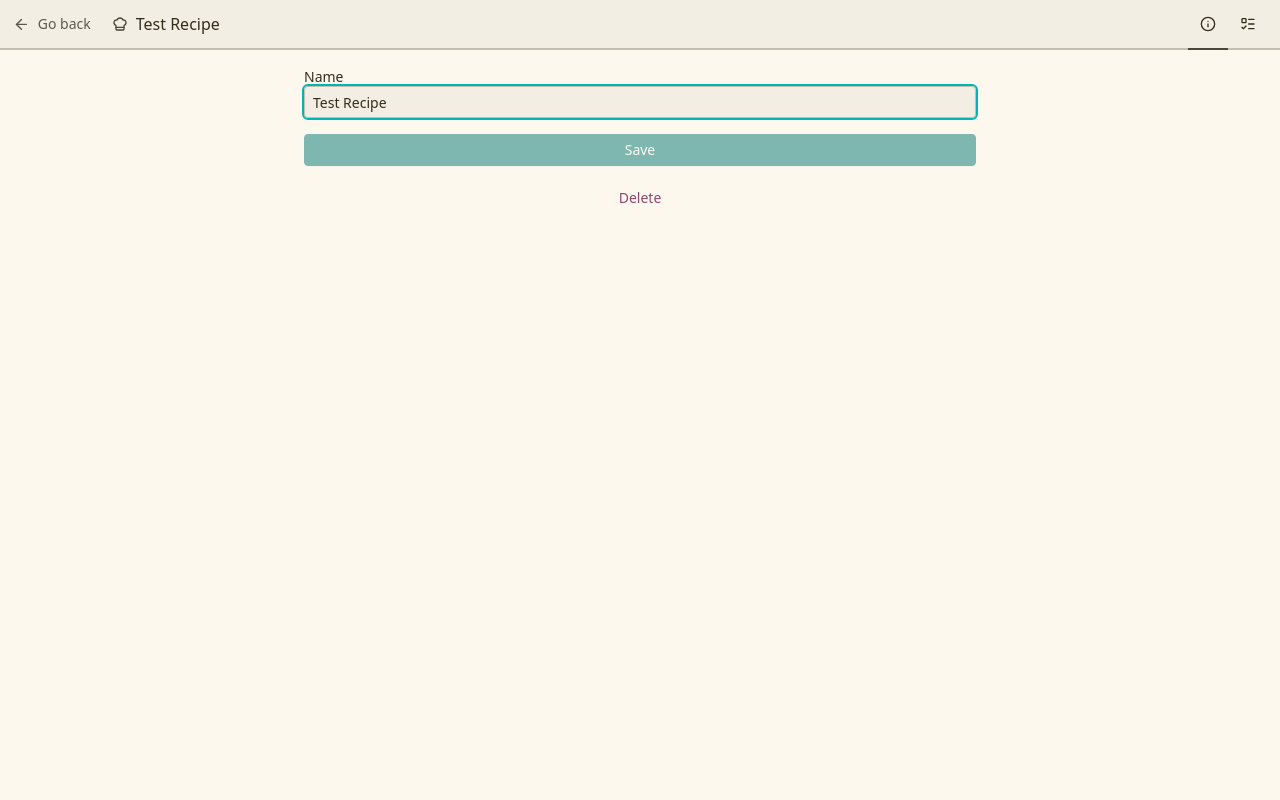
Test case: Recipe Detail - Info Tab › user does not see discard dialog after discarding and returning to Info tab
This screenshot has width=1280, height=800.
Note: When user edits name
Replace the text in the field labelled "Name" with "Changed Name" at [640, 102], box [304,86,976,118]
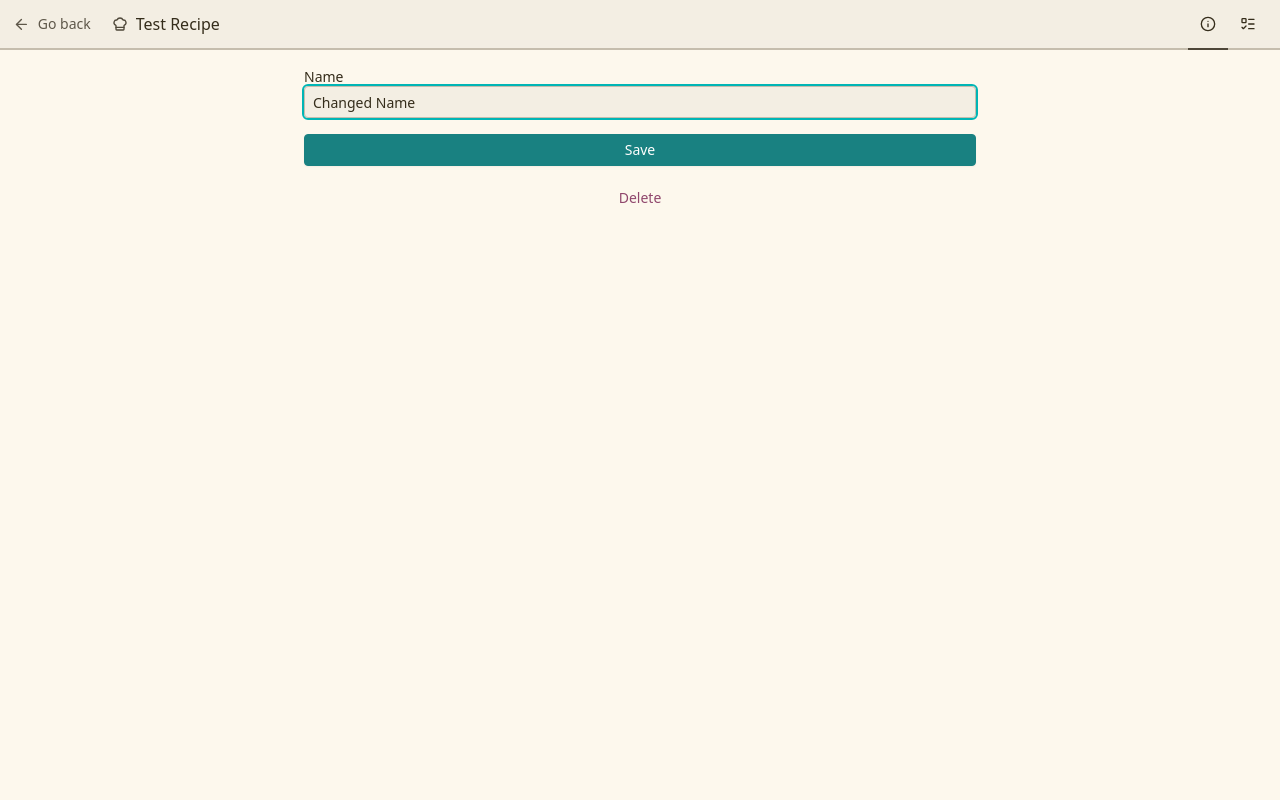
Click the link named "Recipe items tab" at [1248, 25], box [1228,0,1268,50]
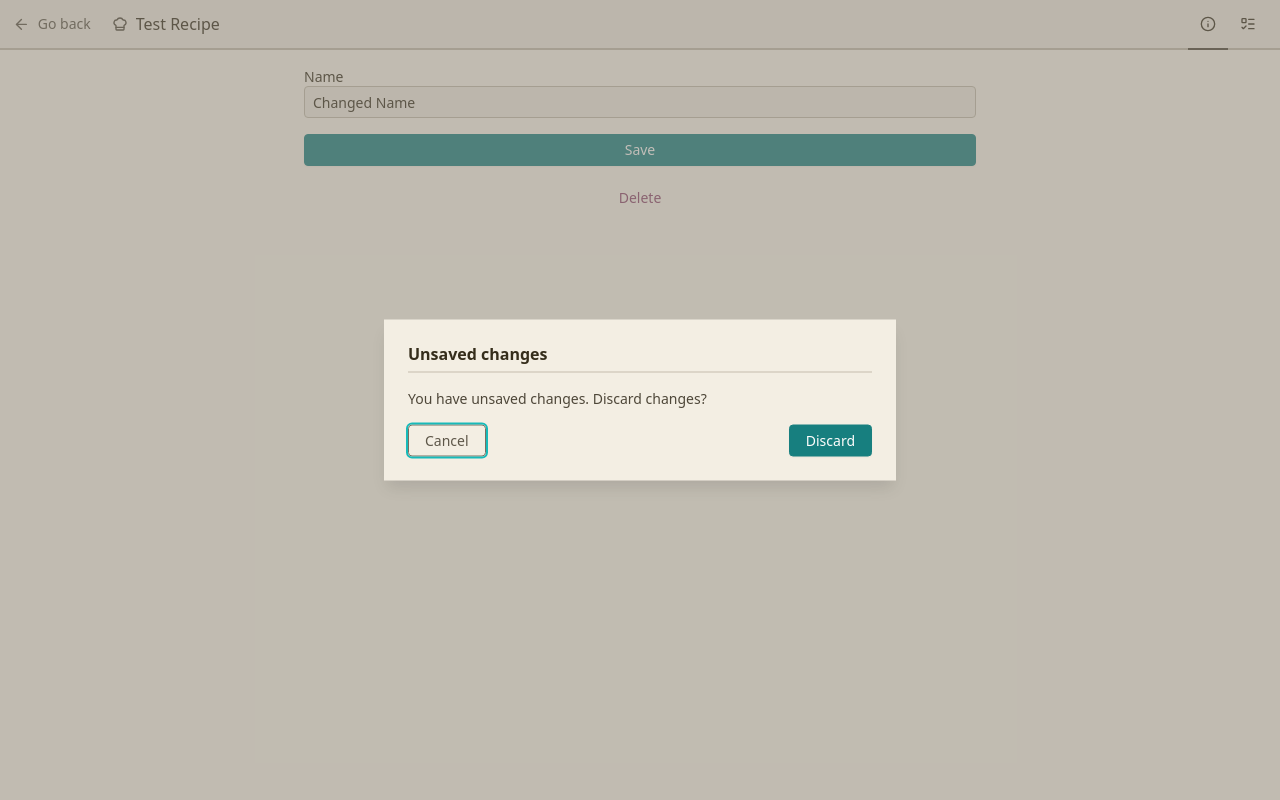
Expected: the heading "Unsaved changes" is shown, [408,342,548,364]
Click the button "Discard" at [830, 440], box [789,424,872,456]
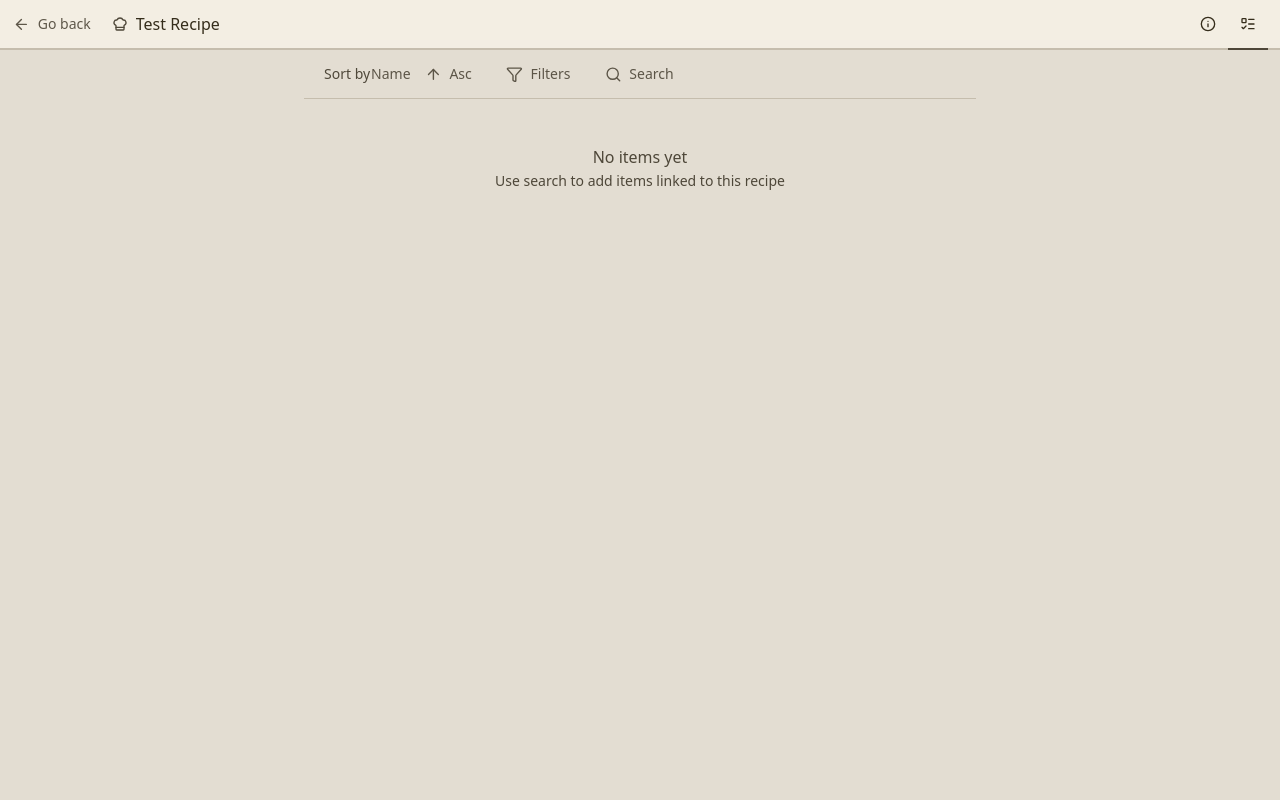
Expected: the heading "Unsaved changes" is gone
Click the link named "Recipe info tab" at [1208, 25], box [1188,0,1228,50]
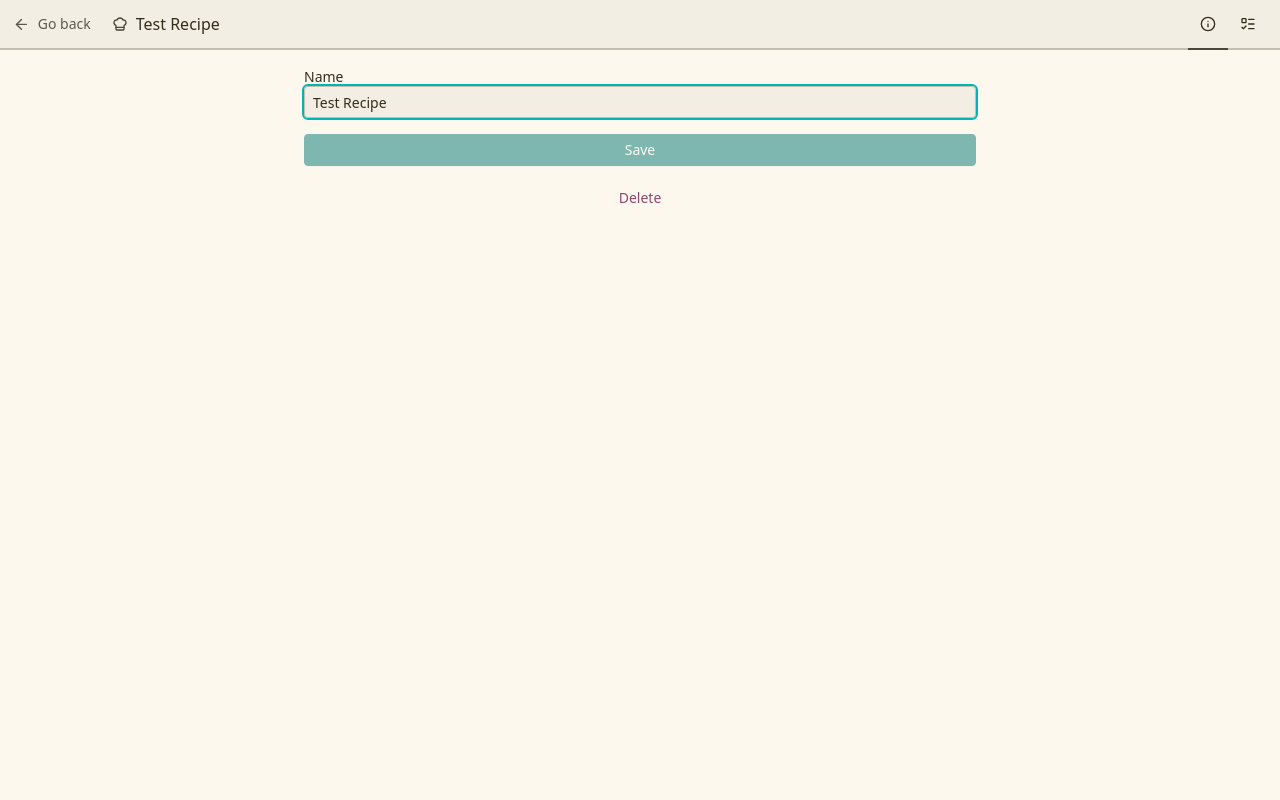
Expected: the heading "Unsaved changes" is not shown
Expected: the field labelled "Name" holds "Test Recipe", [304,86,976,118]
